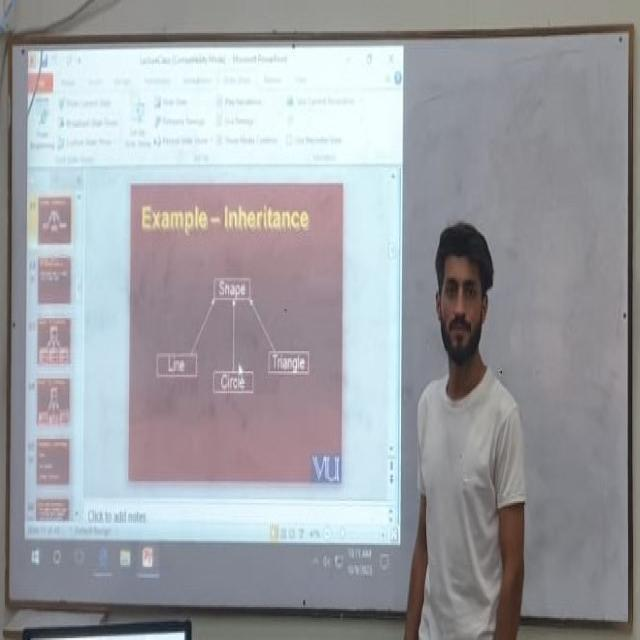Instructor: (413, 209, 524, 640)
Slide: (23, 46, 402, 586)
White-board: (6, 25, 633, 628)
